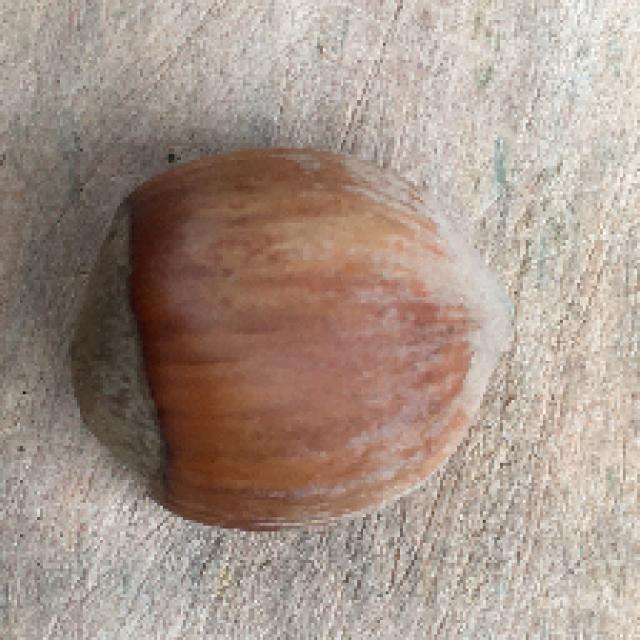qualityHazelnut: (70, 143, 518, 532)
